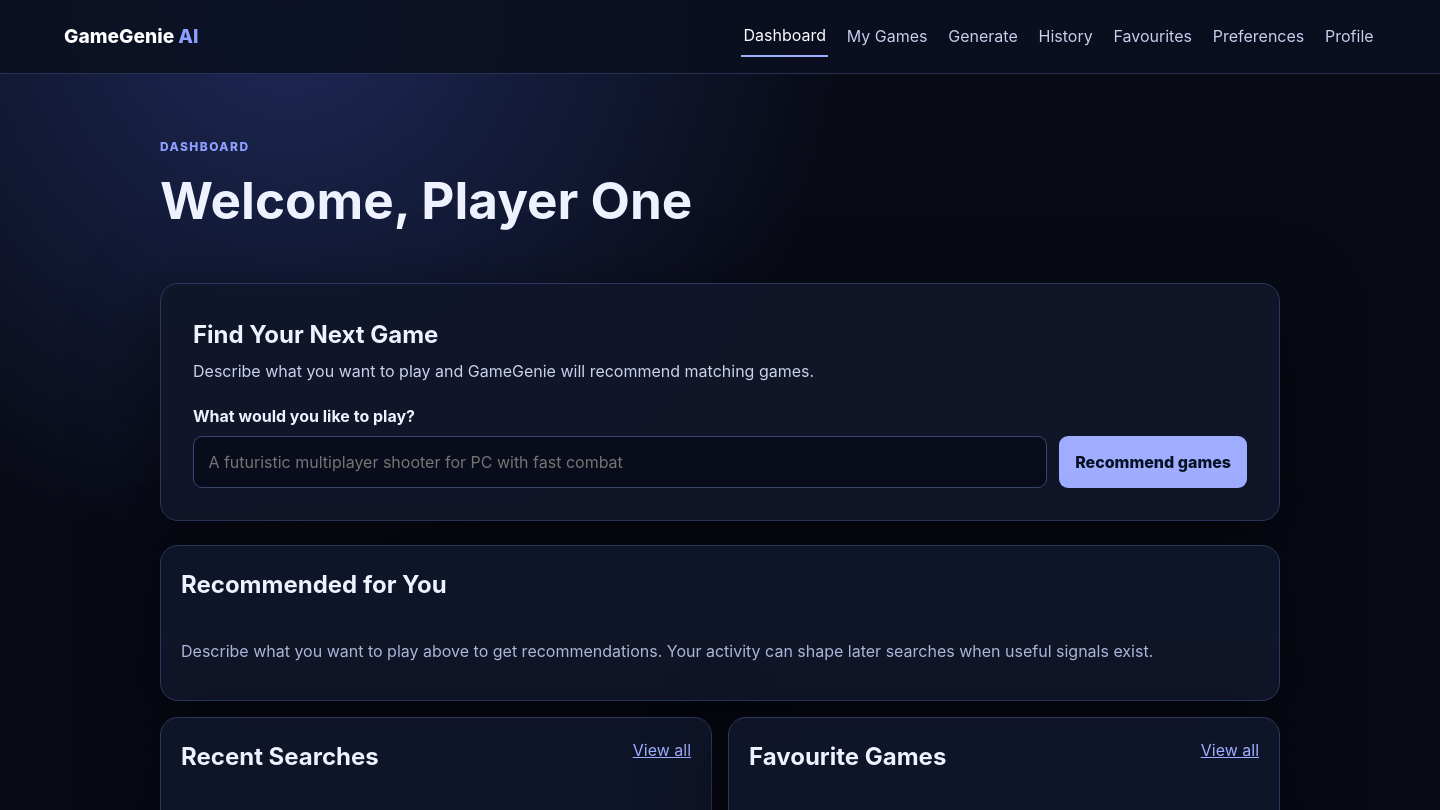
user activity UI › shows a backend recommendation error on the dashboard
This screenshot has width=1440, height=810.
Type "multiplayer shooter" into the search field labelled "What would you like to play?" at coordinates (620, 462), box [193,436,1047,488]
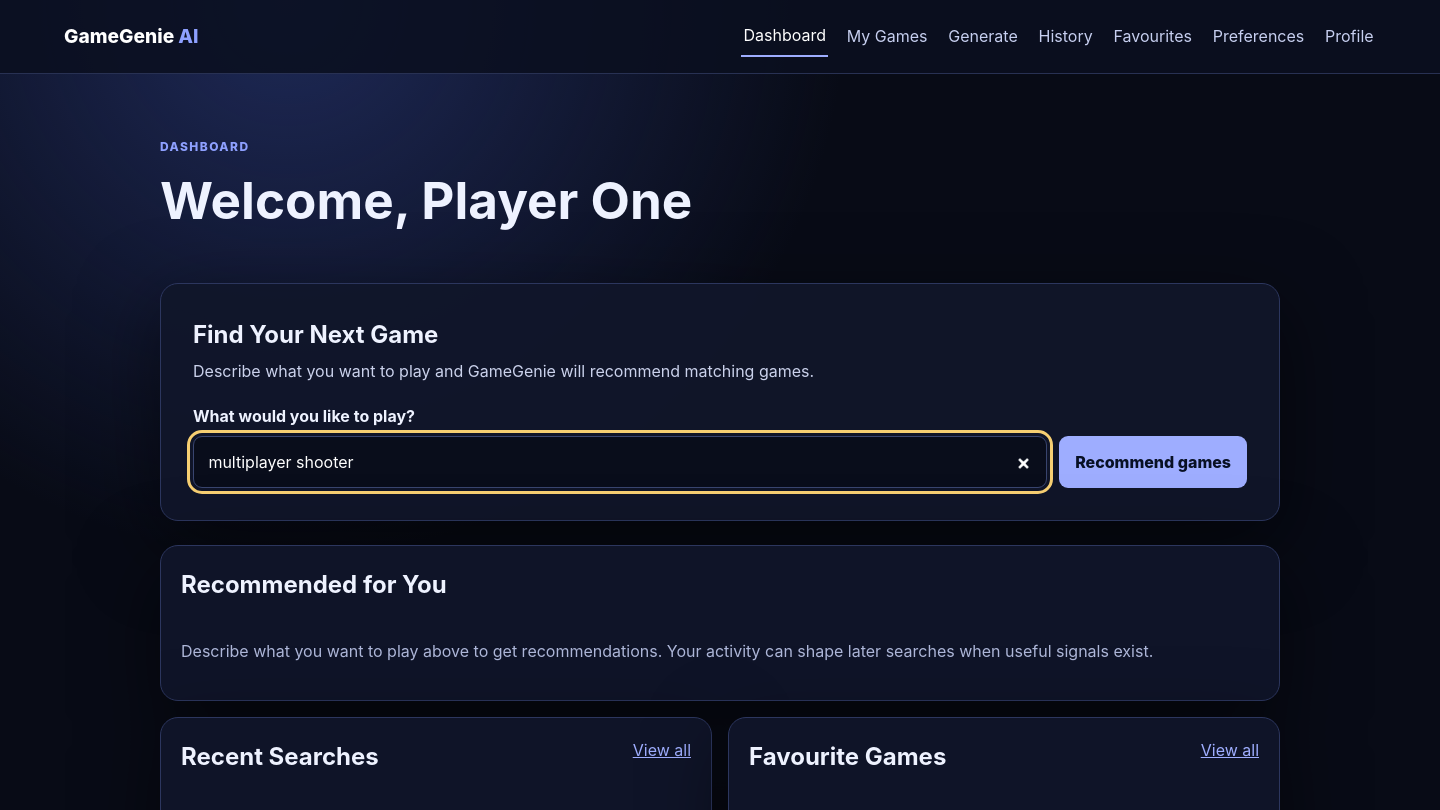
Click the button "Recommend games" at coordinates (1153, 462), box [1059,436,1247,488]
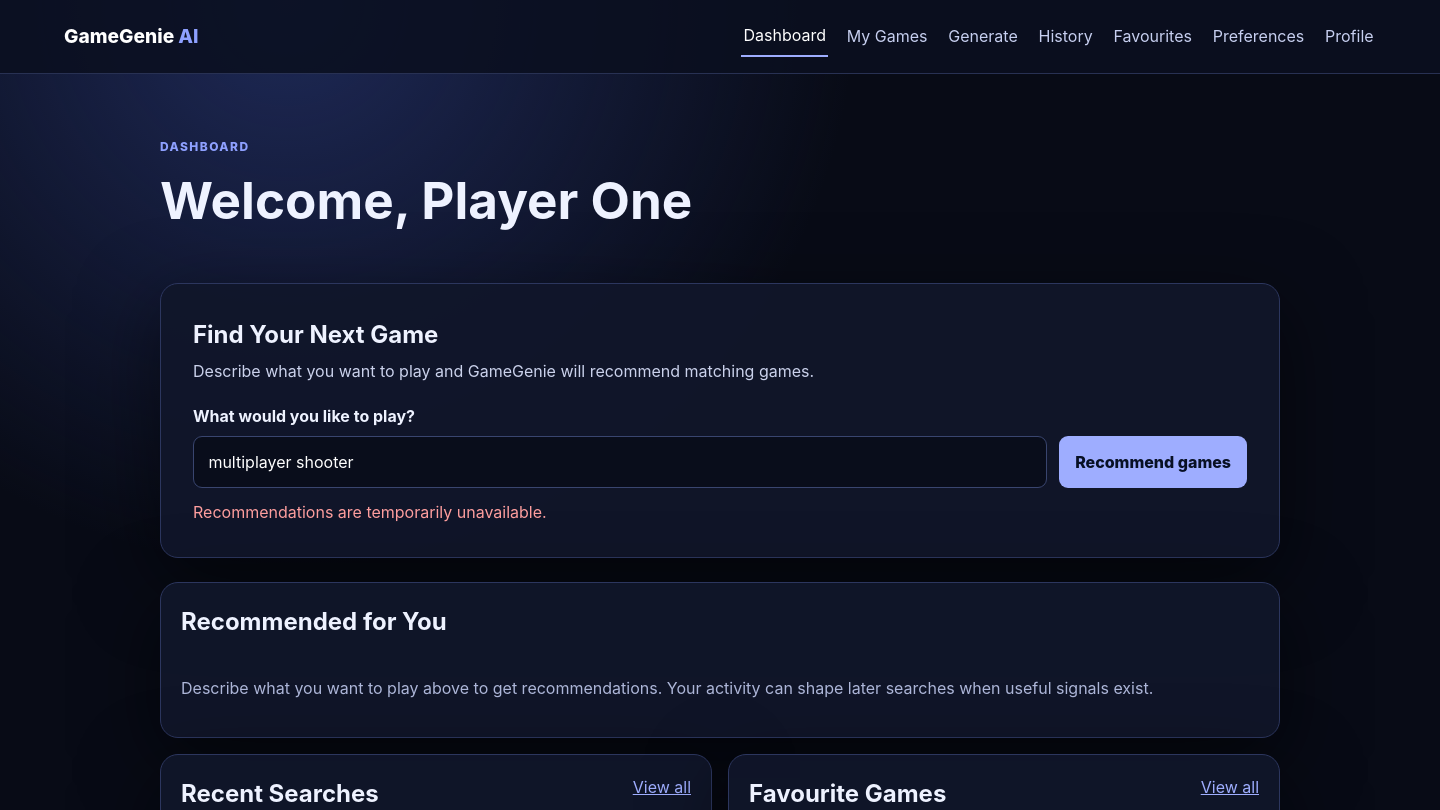
Now the message shows "Recommendations are temporarily unavailable", box [193,502,547,522]
